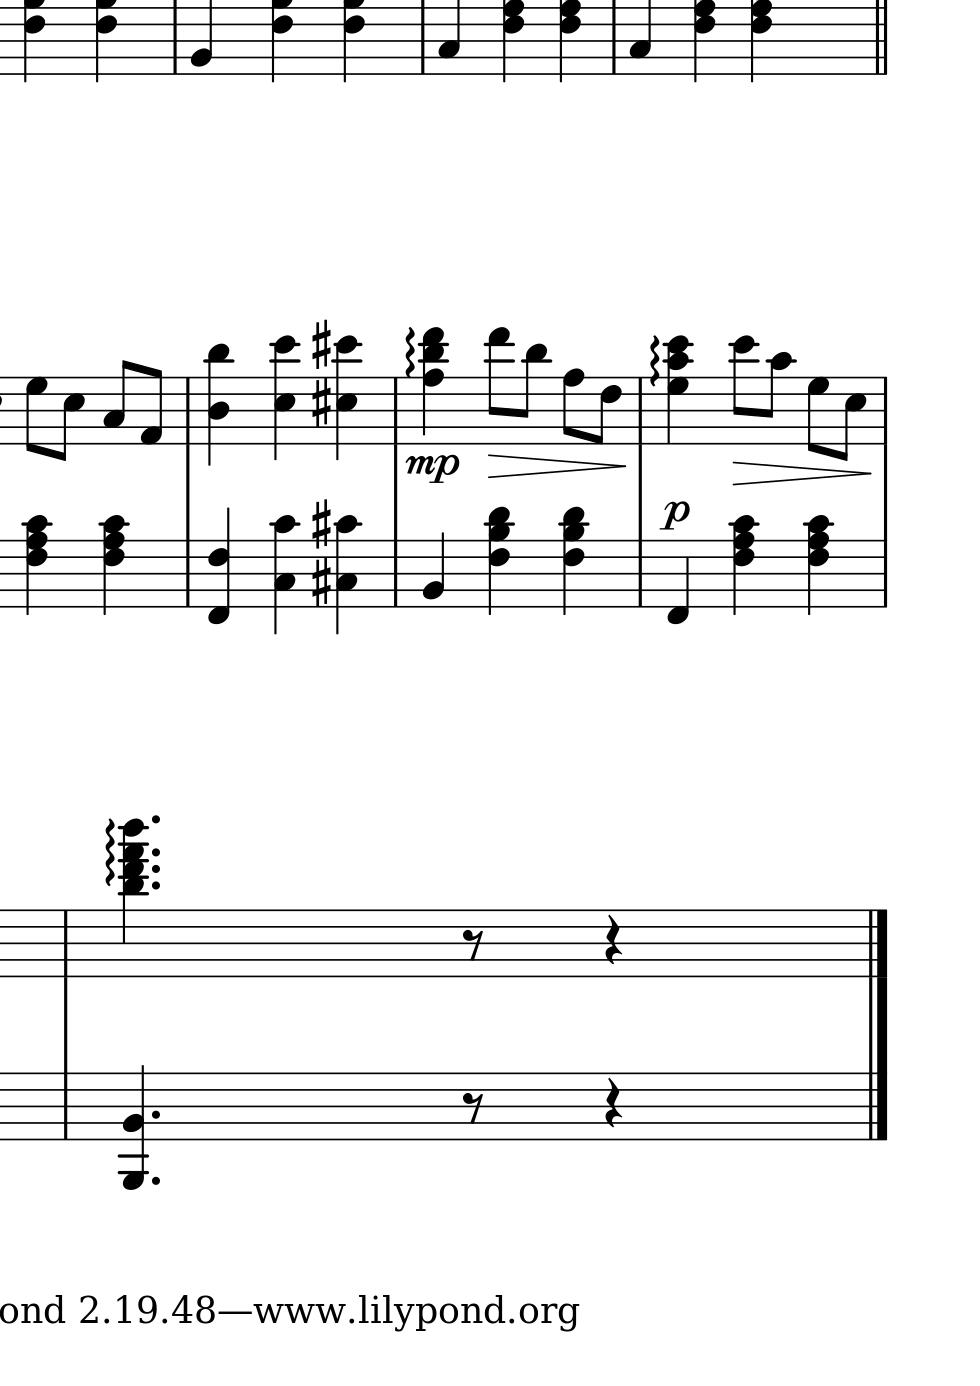4_-1: (664, 538, 690, 626)
4_-1_6: (207, 507, 233, 624)
4_-5_2: (118, 1064, 152, 1190)
4_2: (421, 530, 447, 609)
4_3_10: (268, 513, 299, 634), (332, 515, 363, 636)
4_4_11: (203, 344, 232, 467)
4_4th: (117, 817, 148, 977)
4_5_12: (332, 335, 361, 460), (269, 335, 297, 461)
4_th: (482, 499, 513, 619), (556, 501, 587, 617), (98, 512, 127, 616), (728, 513, 757, 617), (21, 512, 49, 616), (803, 513, 830, 617)
8_1: (138, 365, 163, 448)
8_10: (762, 351, 794, 448)
8_11: (517, 343, 548, 448)
8_12: (728, 334, 757, 448)
8_13: (484, 326, 512, 448)
8_3: (102, 358, 133, 446)
8_5: (55, 375, 85, 464), (837, 374, 867, 461)
8_6: (593, 375, 623, 448)
8_7: (804, 374, 829, 455), (23, 375, 48, 454)
8_8: (560, 367, 585, 448)
Arpeggio: (102, 820, 118, 889), (402, 324, 417, 380), (647, 333, 661, 385)
Diminuendo_hairpin: (486, 453, 629, 479), (732, 461, 867, 488)
Final_barline: (863, 909, 891, 976), (862, 1073, 889, 1140)
Rests4: (602, 913, 623, 967), (602, 1077, 623, 1131)
Rests8: (460, 1090, 485, 1125), (461, 927, 484, 962)
Sharp: (307, 376, 333, 431), (307, 557, 332, 610), (309, 498, 332, 550), (310, 318, 332, 369)
Single_barline: (631, 378, 648, 445), (631, 540, 648, 608), (388, 378, 405, 444), (179, 540, 196, 607), (387, 540, 404, 607), (180, 378, 196, 445), (877, 378, 893, 445), (876, 541, 892, 607), (57, 910, 73, 976), (57, 1073, 73, 1139)
dot: (148, 845, 163, 860), (148, 1174, 163, 1189), (148, 878, 163, 892), (148, 813, 162, 827), (148, 1107, 162, 1121), (148, 862, 163, 875)
mp: (401, 452, 463, 488)
p: (658, 498, 692, 532)
